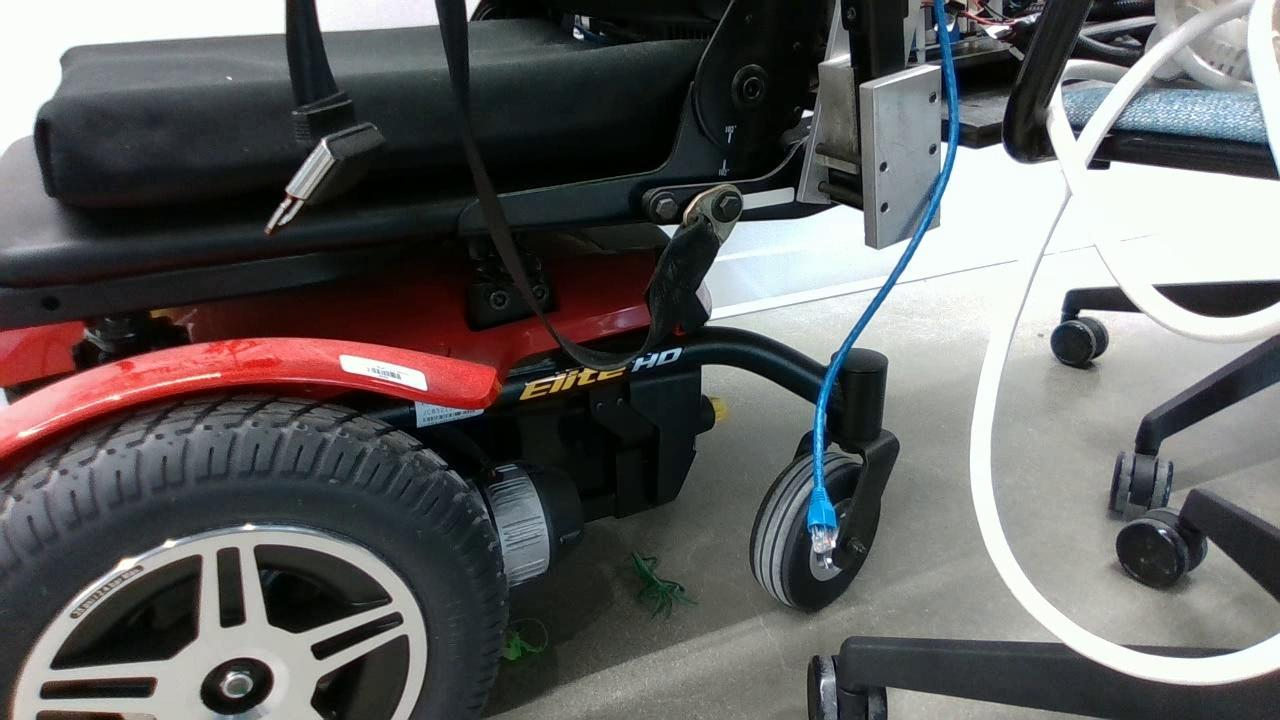grasshopper: (499, 618, 548, 664)
